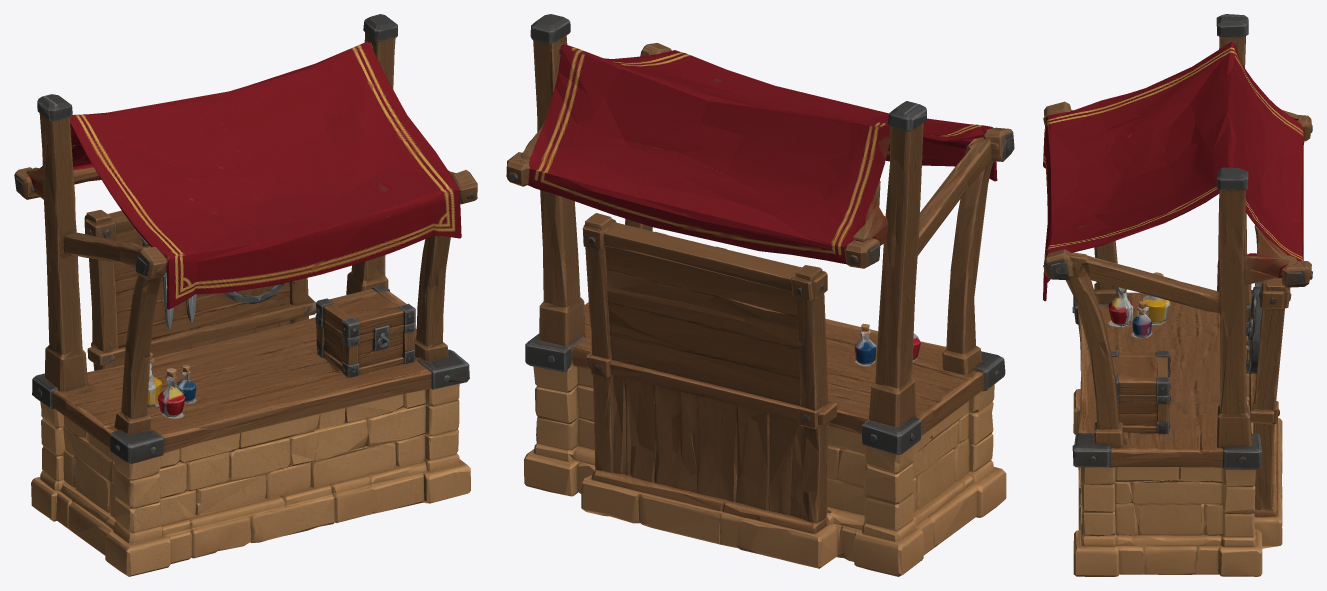
File: armory_stall.glb
The picture shows the model from 3 angles, left to right: view 1: azimuth 30°, elevation 25°; view 2: azimuth 150°, elevation 25°; view 3: azimuth 270°, elevation 25°; orthographic projection. The views are drawn at different scales.
Size of the model in its own units: 1.67 by 1.9 by 1.16.
1 material, 1 textured.
